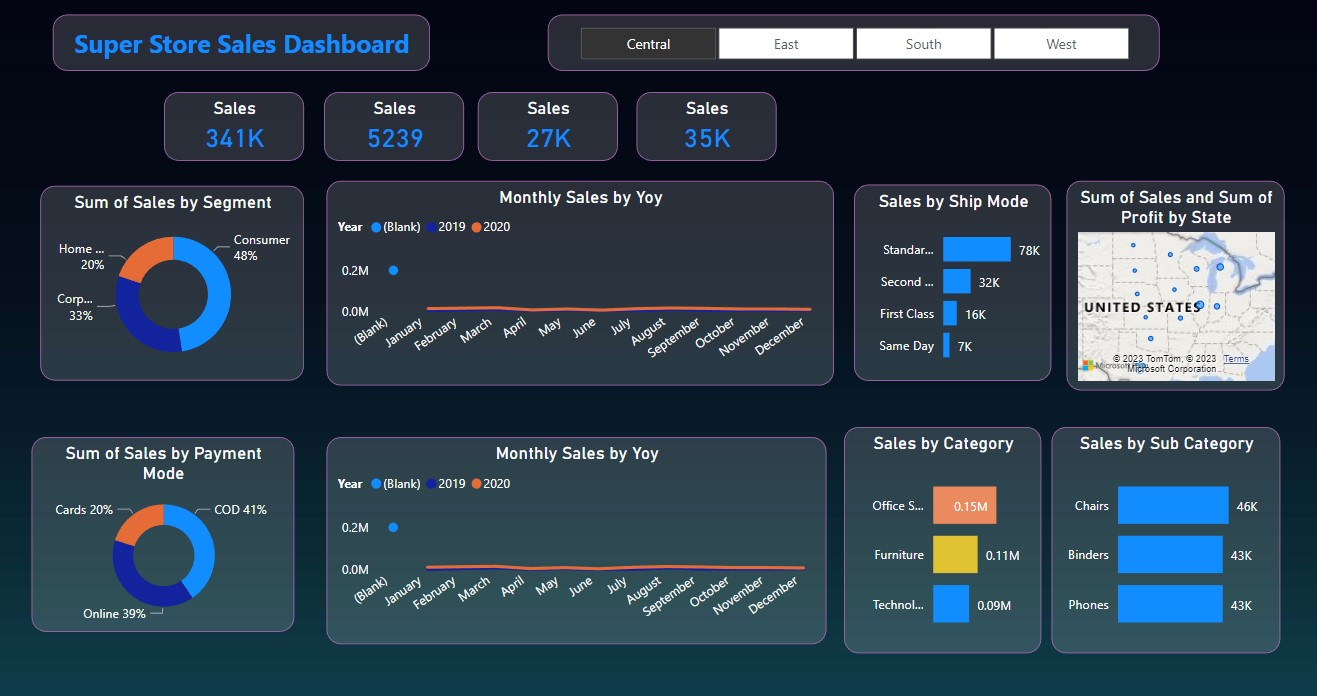

What the dashboard file says about the page in this screenshot:
{"tool":"powerbi","page":{"name":"Page 1","canvas":[1280,720],"ordinal":0},"visuals":[{"type":"clusteredBarChart","title":"Sales by Category","fields":{"Category":["SuperStore_Sales_Dataset csv.Category"],"Y":["Sum(SuperStore_Sales_Dataset csv.Sales)"]},"box":[815.1,415.1,190.7,218.6],"z":0},{"type":"clusteredBarChart","title":"Sales by Sub Category","fields":{"Category":["SuperStore_Sales_Dataset csv.Sub-Category","SuperStore_Sales_Dataset csv.Category"],"Y":["Sum(SuperStore_Sales_Dataset csv.Sales)"]},"box":[1015.1,415.1,220.9,218.6],"z":1000},{"type":"clusteredBarChart","title":"Sales by Ship Mode","fields":{"Category":["SuperStore_Sales_Dataset csv.Ship Mode"],"Y":["Sum(SuperStore_Sales_Dataset csv.Sales)"]},"box":[824.4,181.4,190.7,189.5],"z":2000},{"type":"stackedAreaChart","title":"Monthly Sales  by Yoy","fields":{"Y":["Sum(SuperStore_Sales_Dataset csv.Sales)"],"Category":["SuperStore_Sales_Dataset csv.Order Date.Variation.Date Hierarchy.Month","SuperStore_Sales_Dataset csv.Order Date.Variation.Date Hierarchy.Day"],"Series":["SuperStore_Sales_Dataset csv.Order Date.Variation.Date Hierarchy.Year"]},"box":[316,183.3,489.6,196.6],"z":3000},{"type":"stackedAreaChart","title":"Monthly Sales  by Yoy","fields":{"Y":["Sum(SuperStore_Sales_Dataset csv.Sales)"],"Category":["SuperStore_Sales_Dataset csv.Order Date.Variation.Date Hierarchy.Month","SuperStore_Sales_Dataset csv.Order Date.Variation.Date Hierarchy.Day"],"Series":["SuperStore_Sales_Dataset csv.Order Date.Variation.Date Hierarchy.Year"]},"box":[316.3,424.4,482.6,200],"z":4000},{"type":"map","fields":{"Category":["SuperStore_Sales_Dataset csv.State"],"Size":["Sum(SuperStore_Sales_Dataset csv.Sales)"]},"box":[1030.2,176.7,210.5,202.3],"z":5000},{"type":"donutChart","fields":{"Category":["SuperStore_Sales_Dataset csv.Segment"],"Y":["Sum(SuperStore_Sales_Dataset csv.Sales)"]},"box":[39.5,182.6,254.7,188.4],"z":6000},{"type":"donutChart","fields":{"Category":["SuperStore_Sales_Dataset csv.Payment Mode"],"Y":["Sum(SuperStore_Sales_Dataset csv.Sales)"]},"box":[31.4,424.4,253.5,188.4],"z":7000},{"type":"slicer","fields":{"Values":["SuperStore_Sales_Dataset csv.Region"]},"box":[529.1,17.4,590.7,54.7],"z":8000},{"type":"textbox","box":[52.3,17.4,364,54.7],"z":9000},{"type":"card","title":"Sales","fields":{"Values":["Sum(SuperStore_Sales_Dataset csv.Sales)"]},"box":[159.3,91.9,134.9,66.3],"z":10000},{"type":"card","title":"Sales","fields":{"Values":["Sum(SuperStore_Sales_Dataset csv.Quantity)"]},"box":[314,91.9,134.9,66.3],"z":11000},{"type":"card","title":"Sales","fields":{"Values":["Sum(SuperStore_Sales_Dataset csv.Profit)"]},"box":[461.6,91.9,134.9,66.3],"z":12000},{"type":"card","title":"Sales","fields":{"Values":["Sum(SuperStore_Sales_Dataset csv.AvgDelivery)"]},"box":[615.1,91.9,134.9,66.3],"z":13000}]}

Visuals, with their boxes on the page's 1280x720 design canvas (x1, y1, x2, y2). These are canvas units, not pixel positions in the 1317x696 screenshot, which may show the page scaled, cropped or inside an application window:
"Sales by Category" clusteredBarChart: (left=815, top=415, right=1006, bottom=634)
"Sales by Sub Category" clusteredBarChart: (left=1015, top=415, right=1236, bottom=634)
"Sales by Ship Mode" clusteredBarChart: (left=824, top=181, right=1015, bottom=371)
"Monthly Sales  by Yoy" stackedAreaChart: (left=316, top=183, right=806, bottom=380)
"Monthly Sales  by Yoy" stackedAreaChart: (left=316, top=424, right=799, bottom=624)
map - SuperStore_Sales_Dataset csv.State x Sum(SuperStore_Sales_Dataset csv.Sales): (left=1030, top=177, right=1241, bottom=379)
donutChart - SuperStore_Sales_Dataset csv.Segment x Sum(SuperStore_Sales_Dataset csv.Sales): (left=40, top=183, right=294, bottom=371)
donutChart - SuperStore_Sales_Dataset csv.Payment Mode x Sum(SuperStore_Sales_Dataset csv.Sales): (left=31, top=424, right=285, bottom=613)
slicer - SuperStore_Sales_Dataset csv.Region: (left=529, top=17, right=1120, bottom=72)
textbox: (left=52, top=17, right=416, bottom=72)
"Sales" card: (left=159, top=92, right=294, bottom=158)
"Sales" card: (left=314, top=92, right=449, bottom=158)
"Sales" card: (left=462, top=92, right=596, bottom=158)
"Sales" card: (left=615, top=92, right=750, bottom=158)
